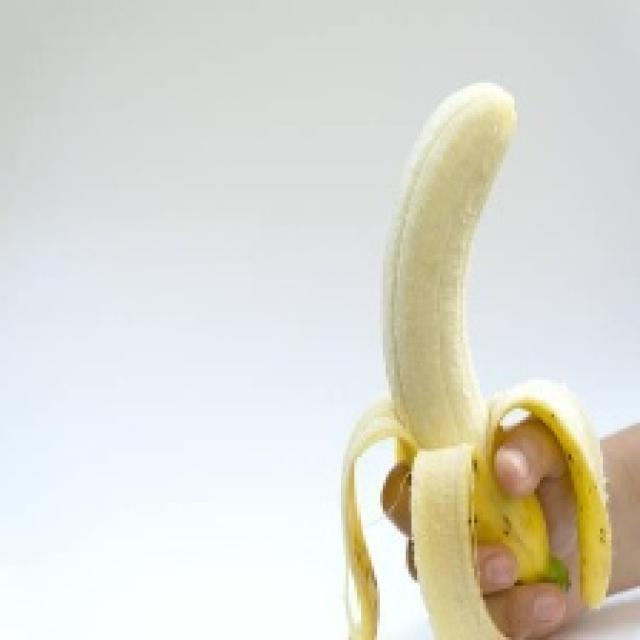Banana: (337, 80, 612, 637)
